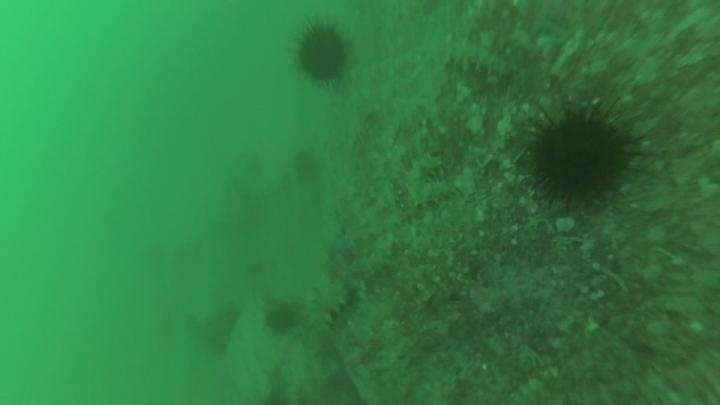echinus: (522, 101, 641, 210), (285, 16, 356, 89), (262, 300, 302, 337), (289, 146, 324, 183)
holothurian: (439, 34, 516, 80), (400, 150, 455, 210), (300, 276, 354, 335)
starfish: (259, 361, 296, 405)
